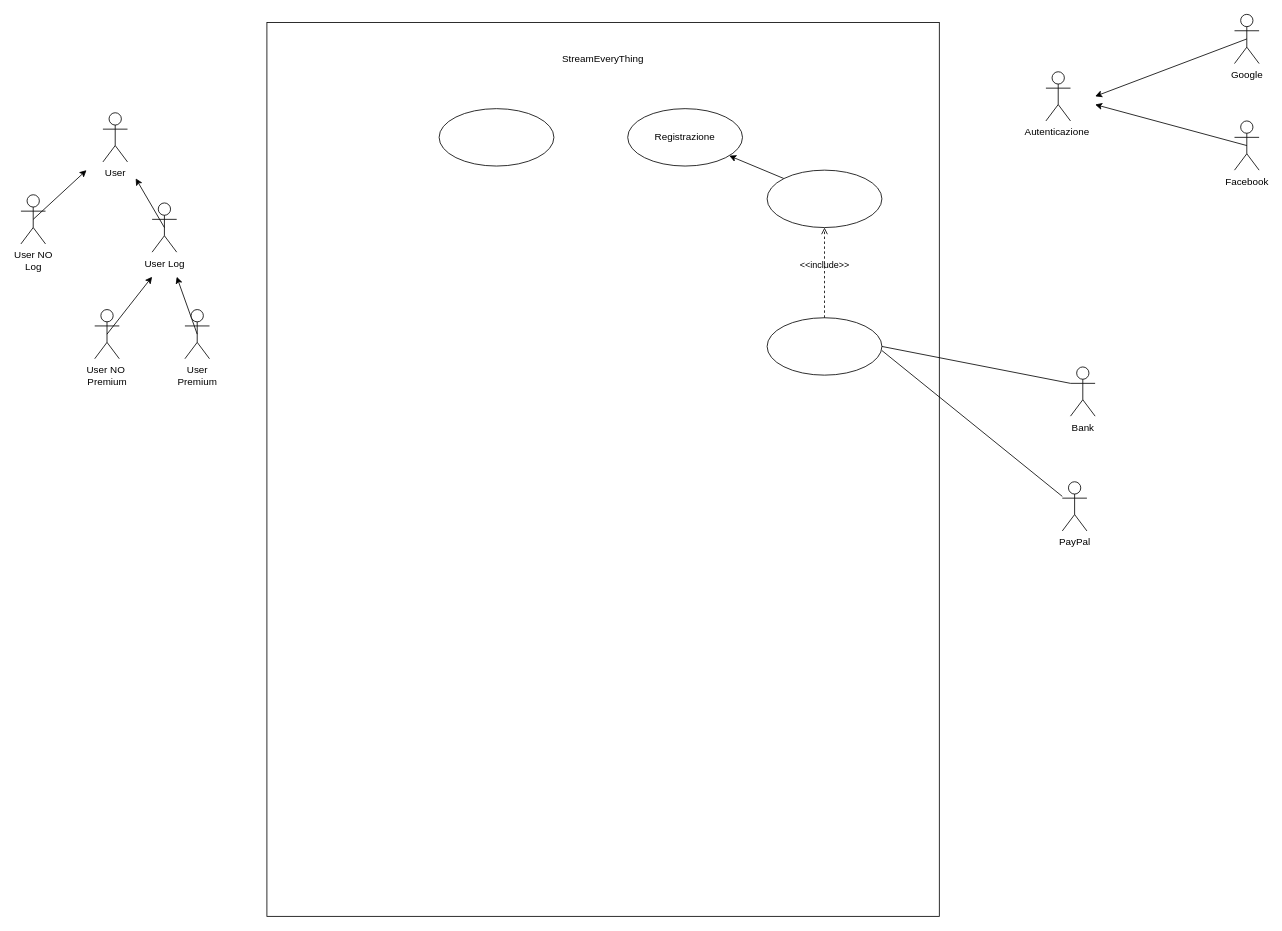
Image size: 1282x931. Some labels were removed from this diagram. The shapes that lost their labels are listed below. From the top down, each one's box as (x1, y1, x2, y2) in pixels, then its label:
(438, 108, 554, 166): LogIn
(766, 169, 882, 228): Registrazione premium
(766, 317, 882, 375): Pagamento
